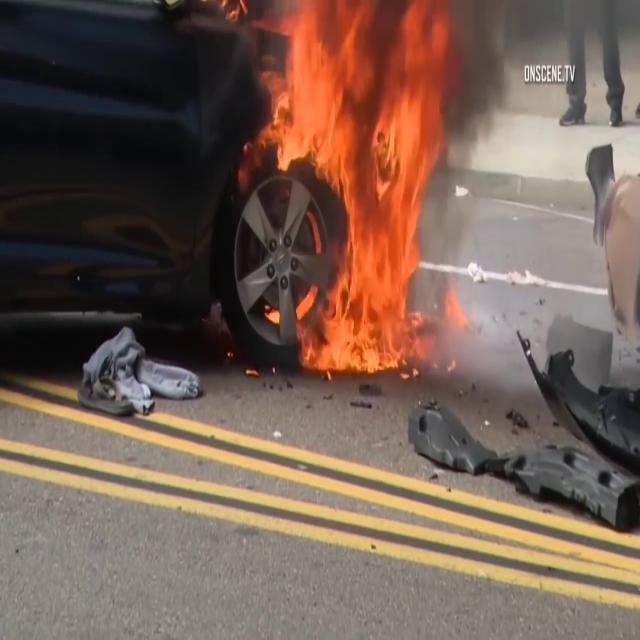Fire: (270, 0, 470, 380)
